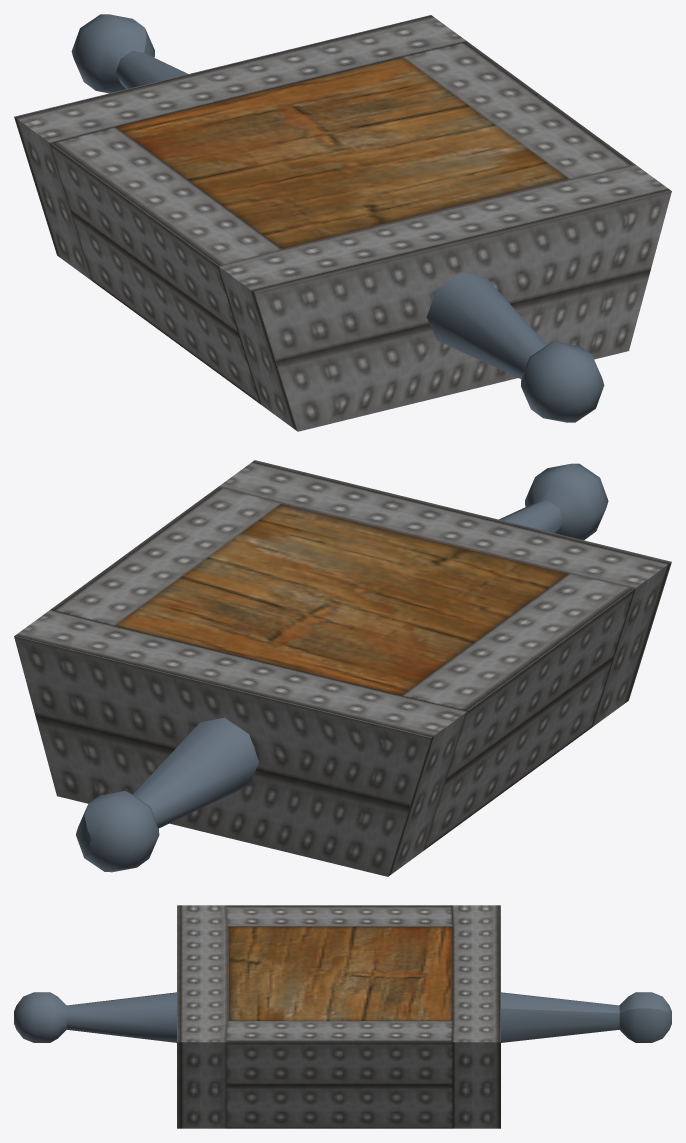
File: P_Modul_41.FBX
3 views of the same model, one above another, from view 1: azimuth 30°, elevation 25°; view 2: azimuth 150°, elevation 25°; view 3: azimuth 270°, elevation 25° (orthographic). The views are drawn at different scales.
Parts seen in each view (by area): view 1: P_Modul_41; view 2: P_Modul_41; view 3: P_Modul_41.
Part boxes in pixels (x1,y1,x2,y2): P_Modul_41: [14, 14, 671, 431]; P_Modul_41: [14, 460, 671, 876]; P_Modul_41: [14, 905, 671, 1128].
Bounding box in the file's own units: 5 × 1.71 × 10.15.
Materials: 3 (2 with a texture image).
